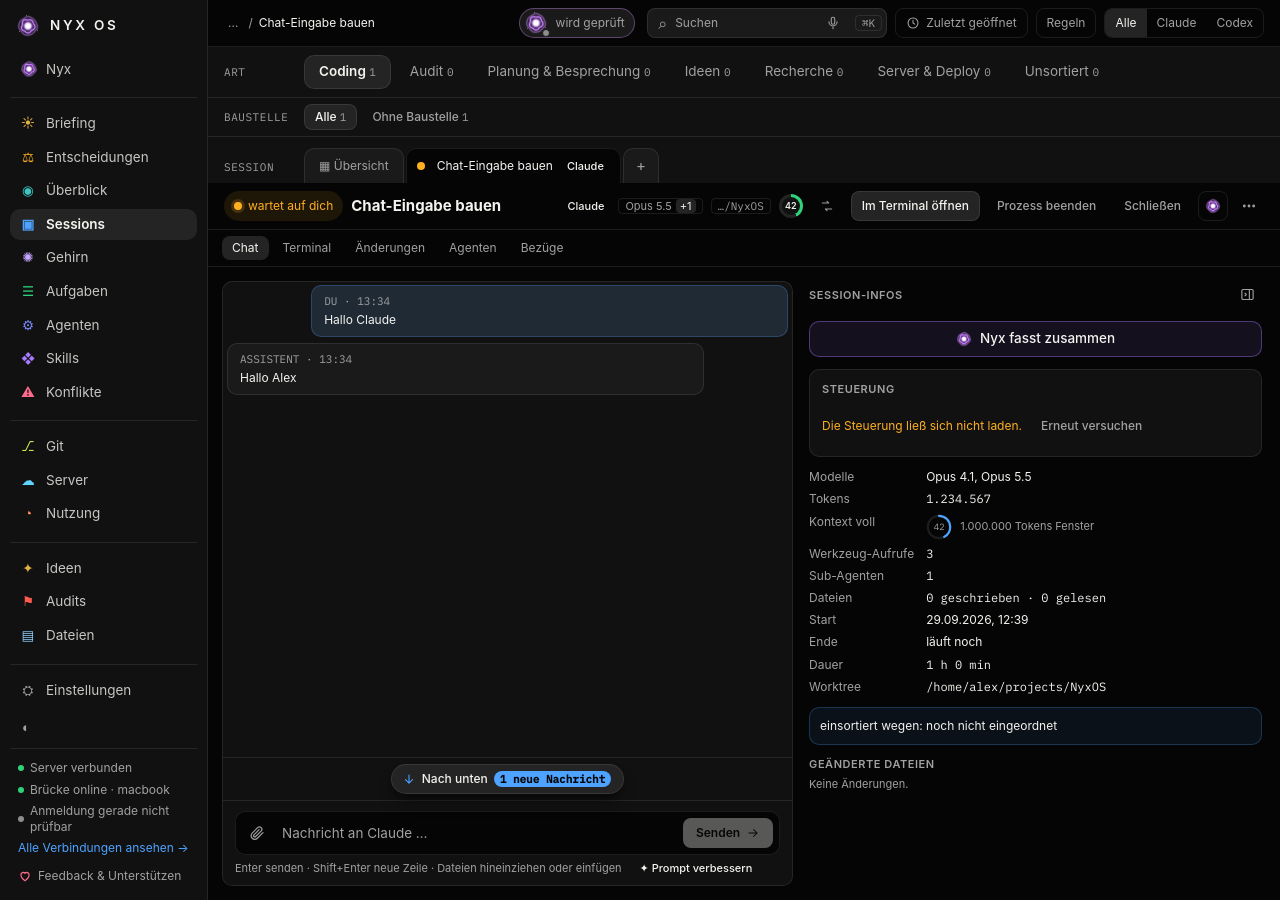
Scenario: Prompt verbessern › Abschicken nutzt den bestehenden Session-Weg (/message) mit dem verbesserten Prompt
Click the button "✦ Prompt verbessern" at (696, 868), box x1=634 y1=859 x2=758 y2=877
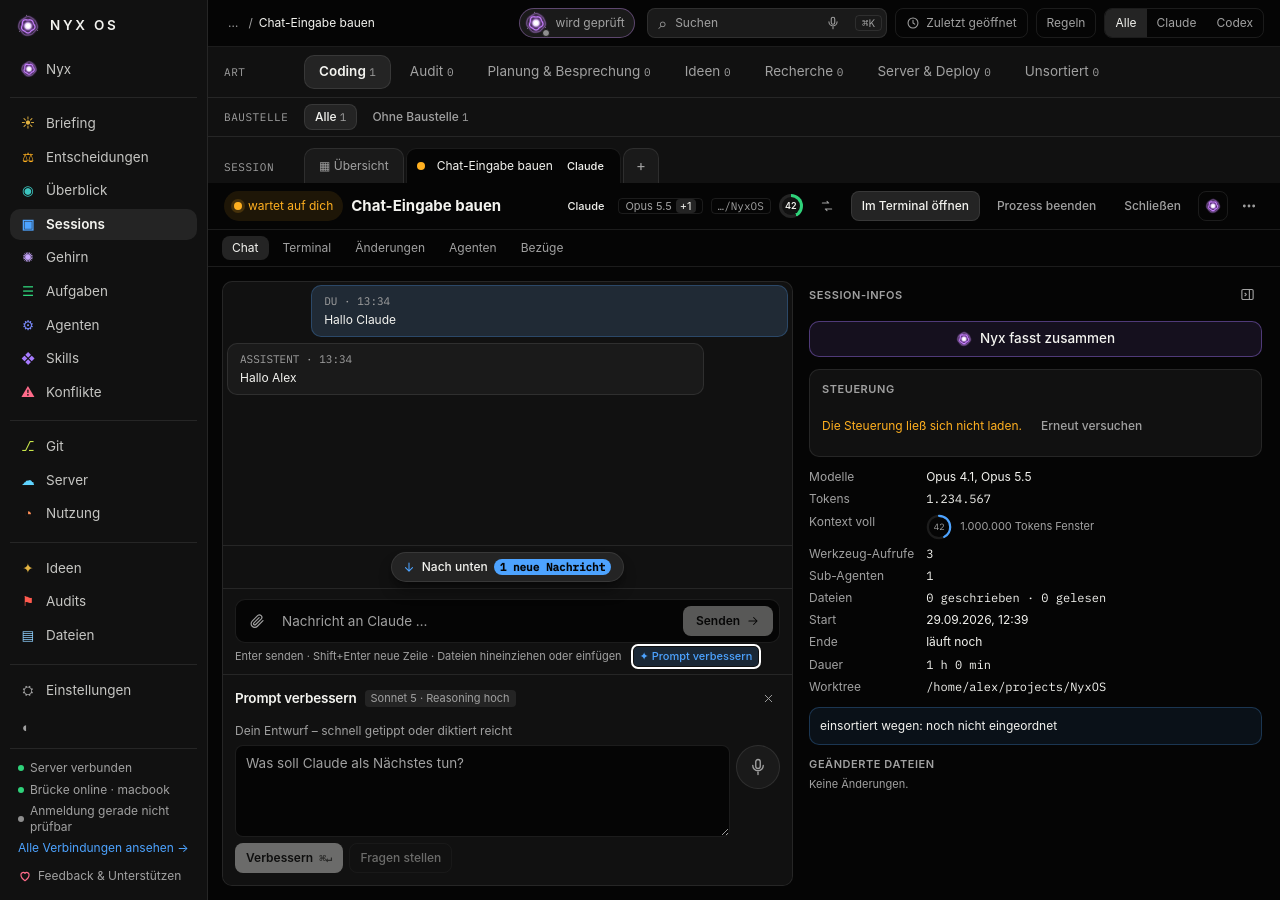
Type "fertig machen" into the text box labelled "Dein Entwurf – schnell getippt oder diktiert reicht" at (483, 791), box x1=235 y1=745 x2=730 y2=837
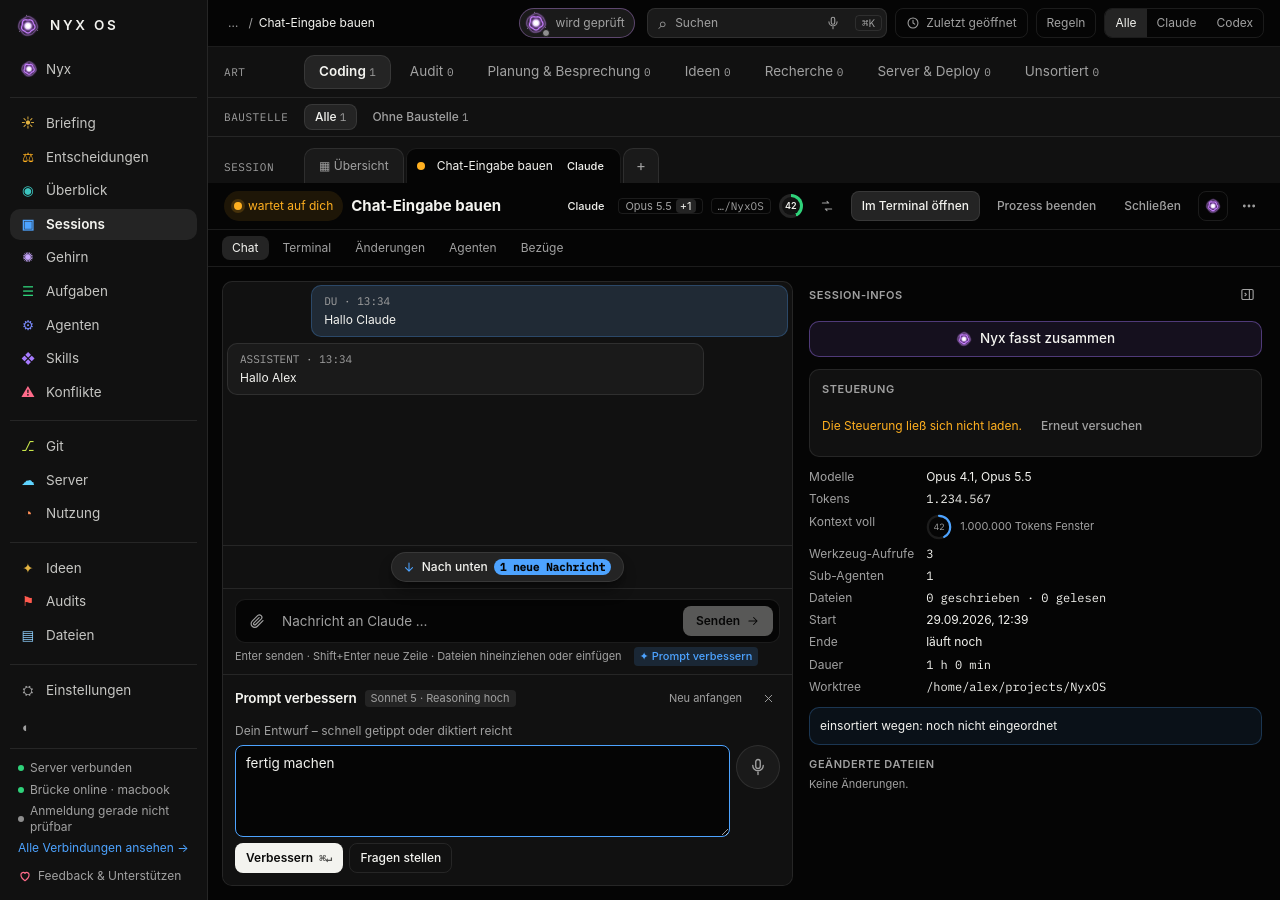
Click the button "Verbessern ⌘↵" at (289, 858), box x1=235 y1=843 x2=343 y2=873
(page scrolled)
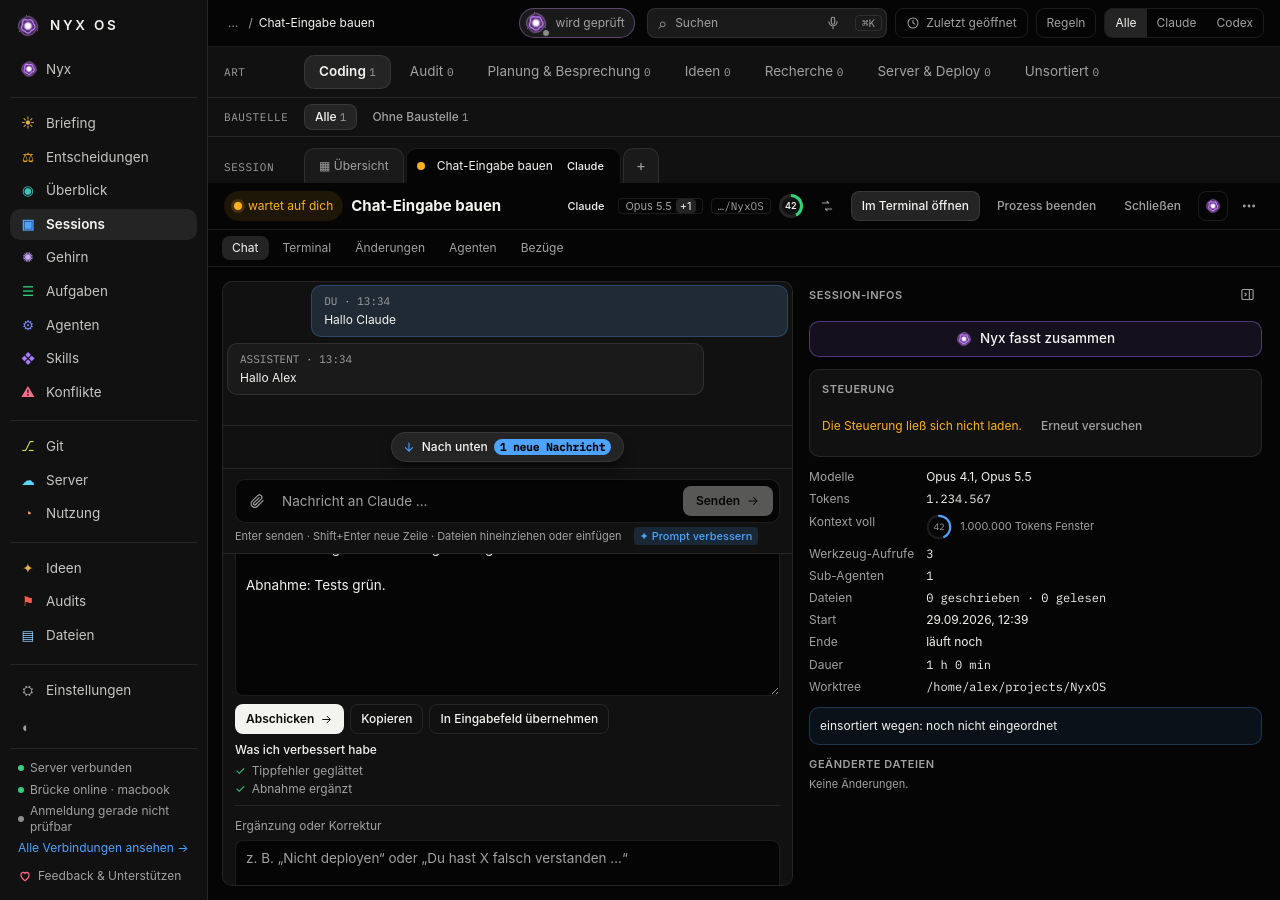
expect the text box labelled "Verbesserter Prompt" is shown: met, box x1=235 y1=553 x2=780 y2=696
Click the button "Abschicken" at (290, 720), box x1=235 y1=704 x2=344 y2=734
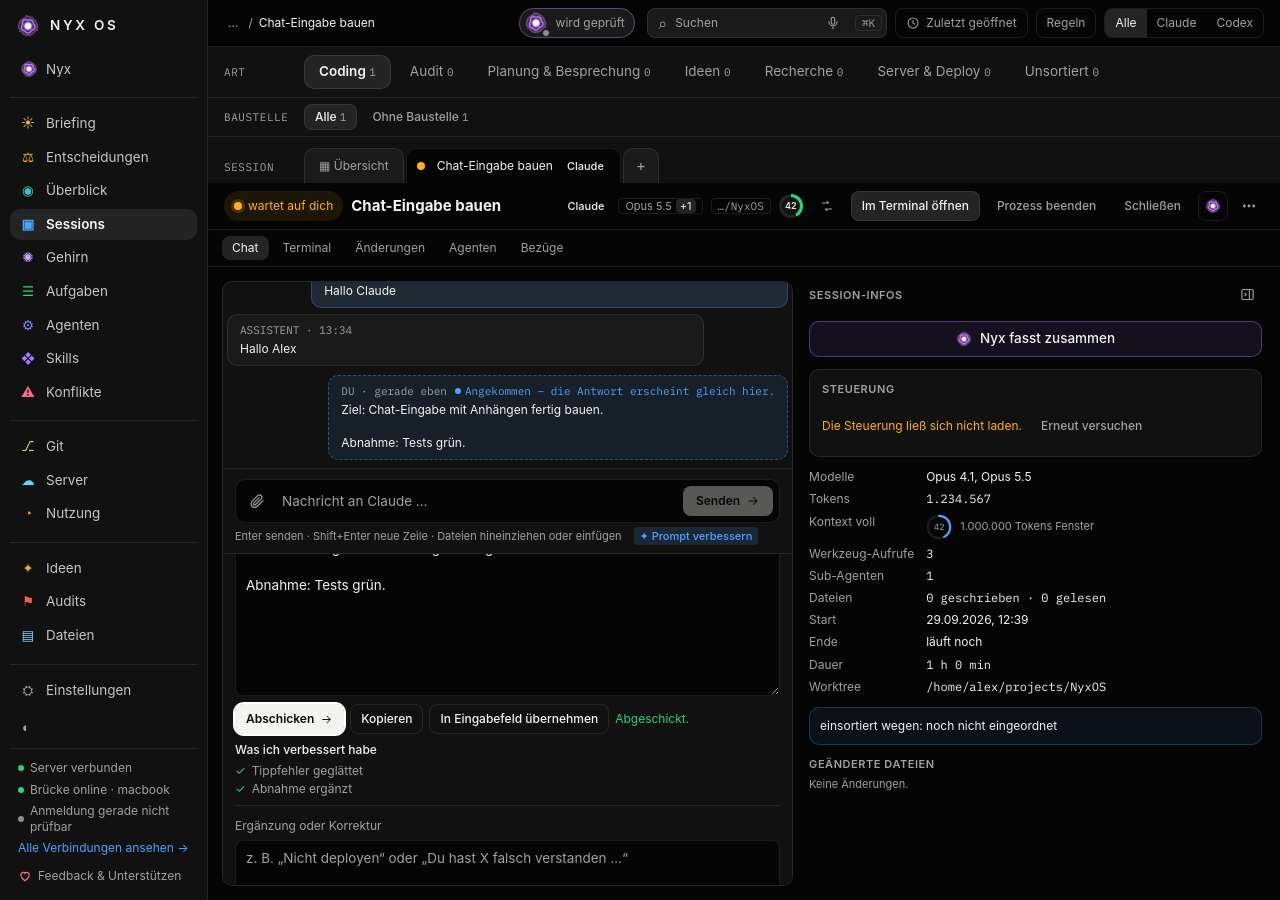
expect the element with test id "chat-pending" shows "Ziel: Chat-Eingabe": met, box x1=341 y1=402 x2=603 y2=450
